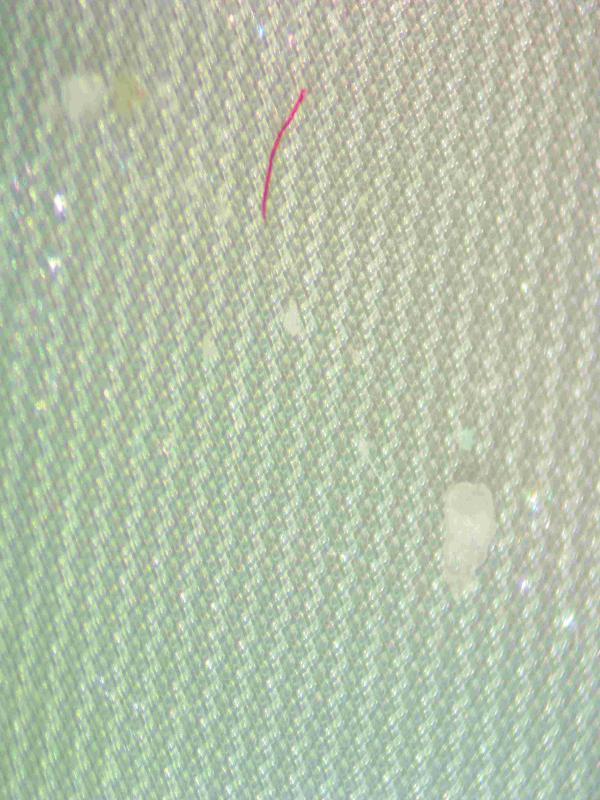microplastic: (1, 1, 599, 798), (260, 86, 307, 221)
